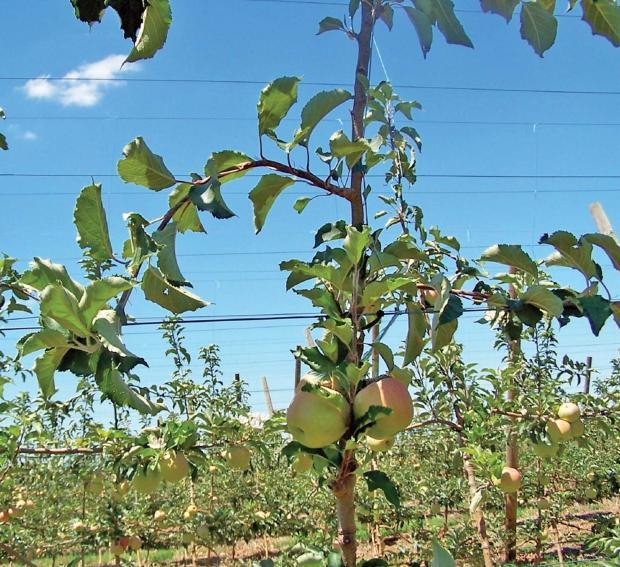apple: (286, 382, 353, 448), (353, 377, 415, 442)
